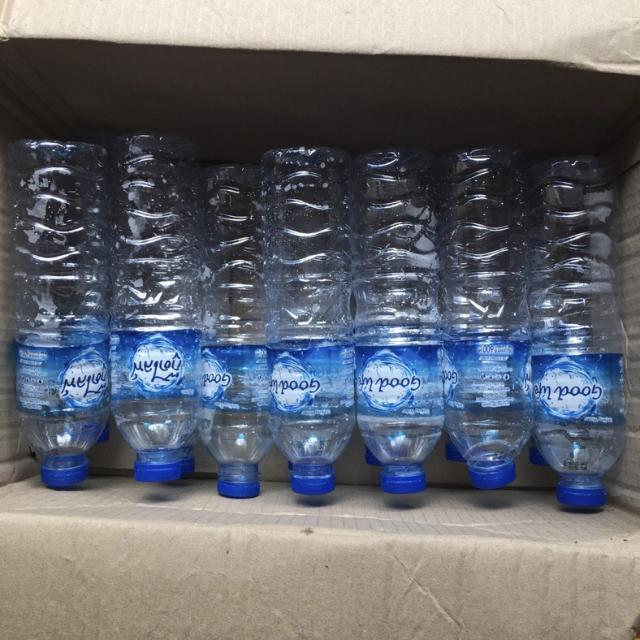PET Bottle: (10, 110, 112, 493), (106, 120, 206, 505), (258, 122, 360, 498), (533, 152, 630, 510), (354, 144, 442, 522), (444, 138, 532, 507), (197, 156, 276, 503)
